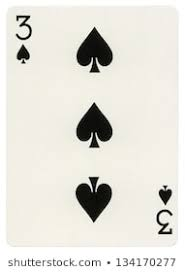three of spades: (8, 7, 179, 248)
